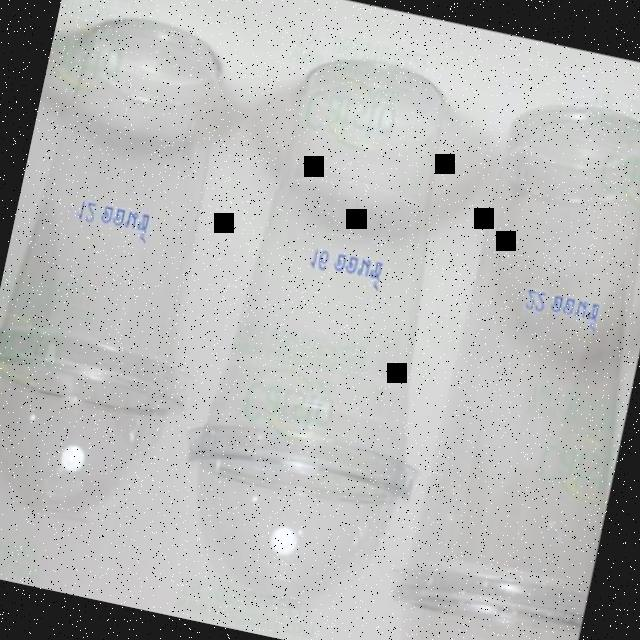plastic_box: (154, 34, 506, 635), (373, 80, 640, 640), (0, 0, 266, 539)
